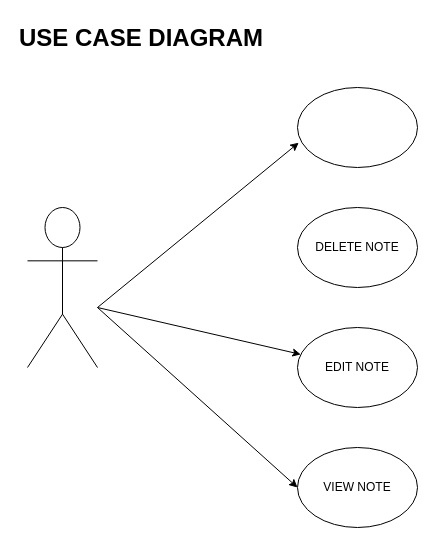
The diagram is 435 pixels wide and 545 high, and some of its shapes have lost their labels. Each missing label, with the centre of its shape:
CREATE NOTE: (357,127)
USER: (62,287)
